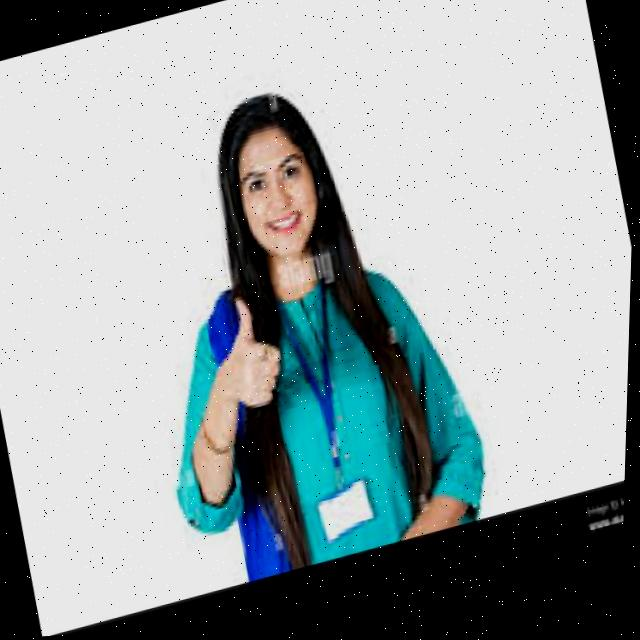id_card: (258, 276, 398, 559)
